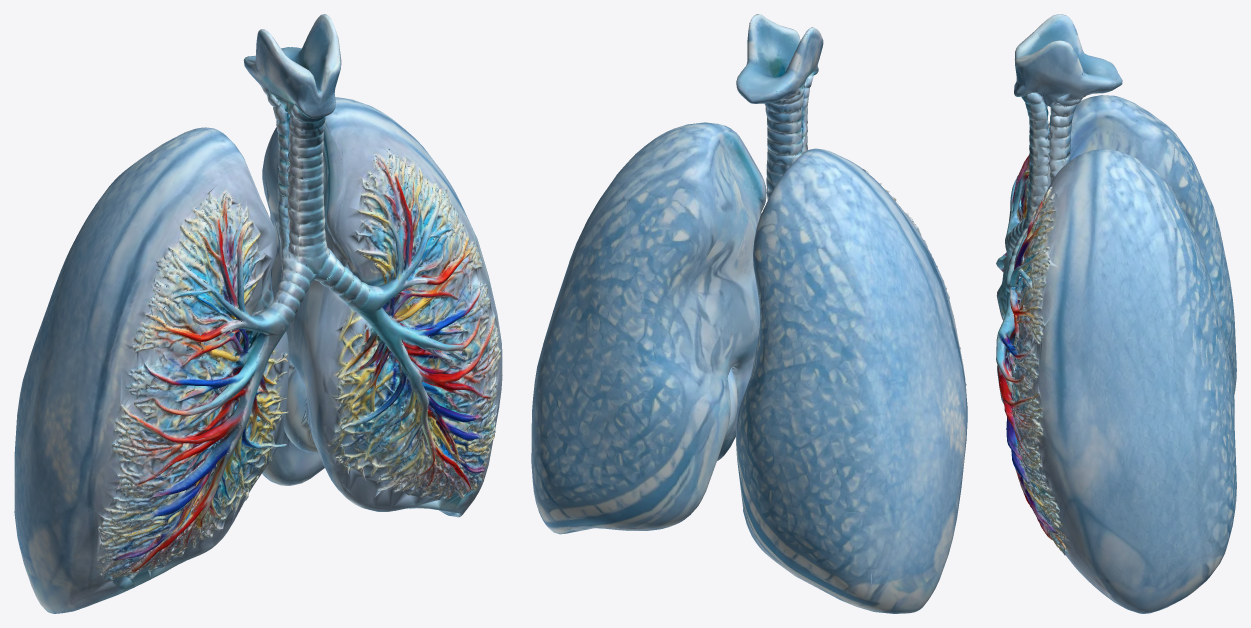
Rendered from lungs-final.glb.
3 renders of one model, left to right at view 1: azimuth 30°, elevation 25°; view 2: azimuth 150°, elevation 25°; view 3: azimuth 270°, elevation 25°, orthographic. The views are drawn at different scales.
Visible parts, largest first — view 1: Mesh_0.001; view 2: Mesh_0.001; view 3: Mesh_0.001.
Boxes of the visible parts, bbox=[...] form: Mesh_0.001: bbox=[14, 14, 502, 613]; Mesh_0.001: bbox=[531, 14, 967, 613]; Mesh_0.001: bbox=[996, 14, 1236, 613].
Bounding box in the file's own units: 1.53 × 1.9 × 0.8265.
Materials: 1 (1 with a texture image).
